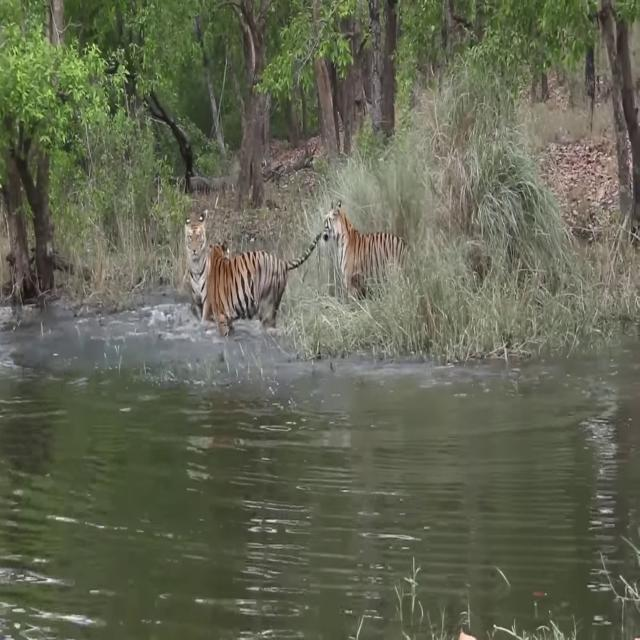tiger: (212, 242, 320, 338), (322, 198, 424, 298), (184, 208, 209, 316)
